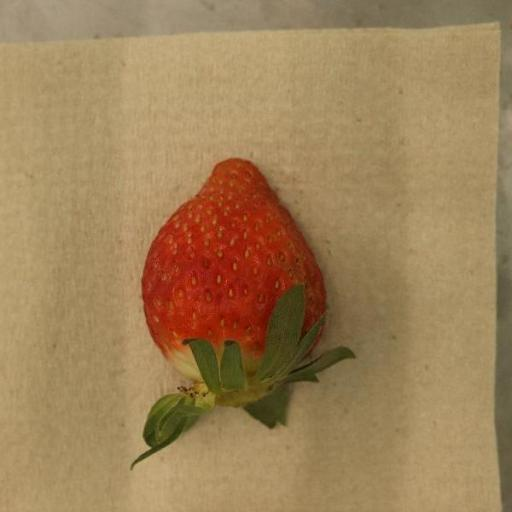Strawberry: (133, 159, 356, 468)
